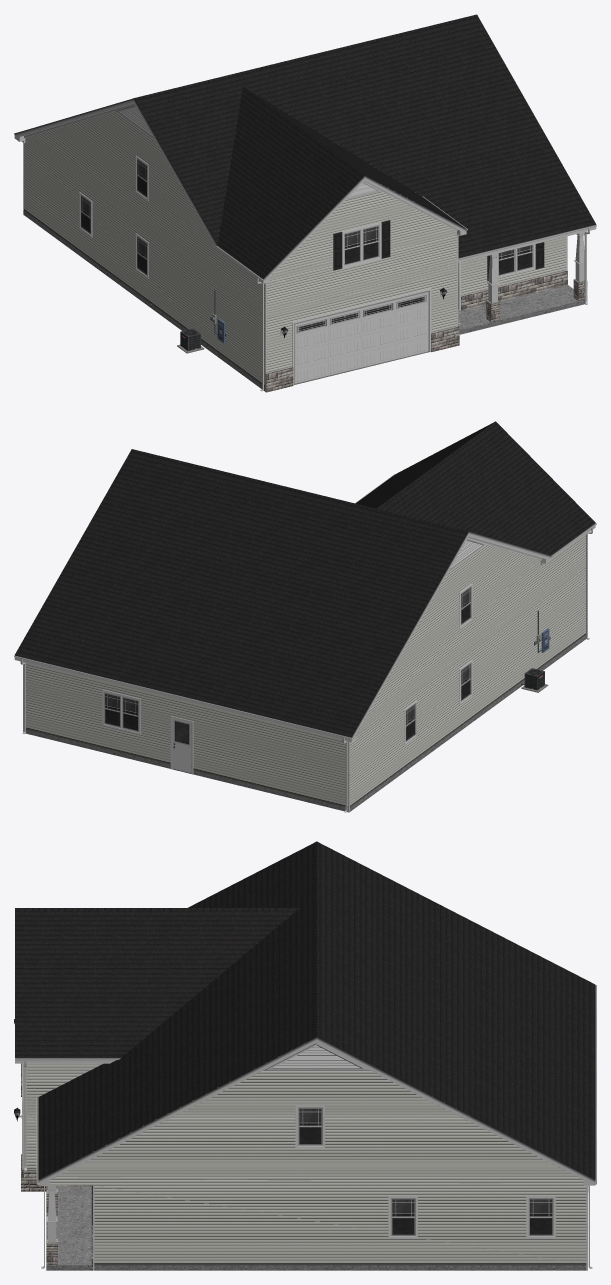
The model's file is house17_mirror2.fbx.
The picture shows the model from 3 angles, top to bottom: view 1: azimuth 30°, elevation 25°; view 2: azimuth 150°, elevation 25°; view 3: azimuth 270°, elevation 25°; orthographic projection. The views are drawn at different scales.
Parts seen in each view (by area): view 1: house17_mirror2_LOD0; view 2: house17_mirror2_LOD0; view 3: house17_mirror2_LOD0.
Boxes of the visible parts, left/top/right/bottom form: house17_mirror2_LOD0: left=14, top=14, right=596, bottom=392; house17_mirror2_LOD0: left=14, top=421, right=596, bottom=812; house17_mirror2_LOD0: left=14, top=841, right=596, bottom=1270.
Size of what is drawn, in the model's own units: 4.09 by 2.22 by 4.95.
